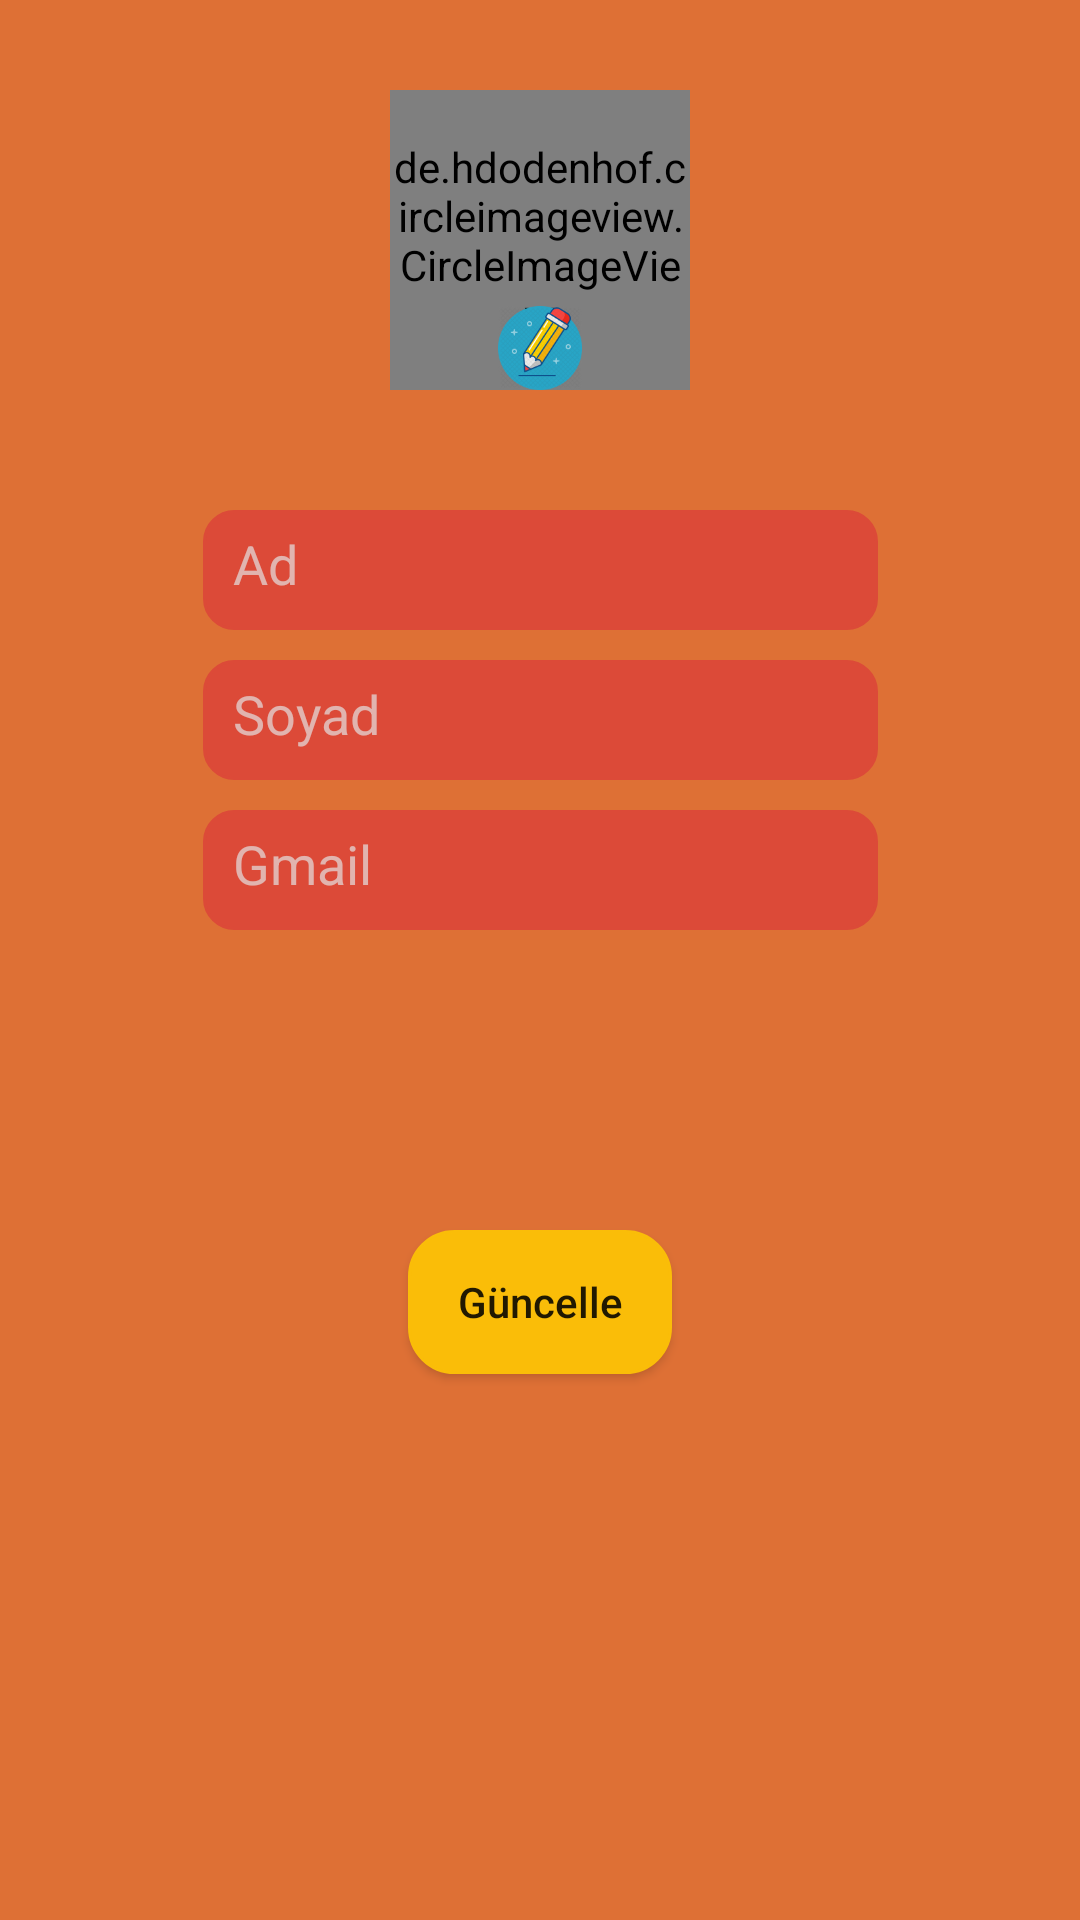

Named icons in this screenshot (1080 x 1920) and their centers, point (x, y):
pencil: point (540, 348)
